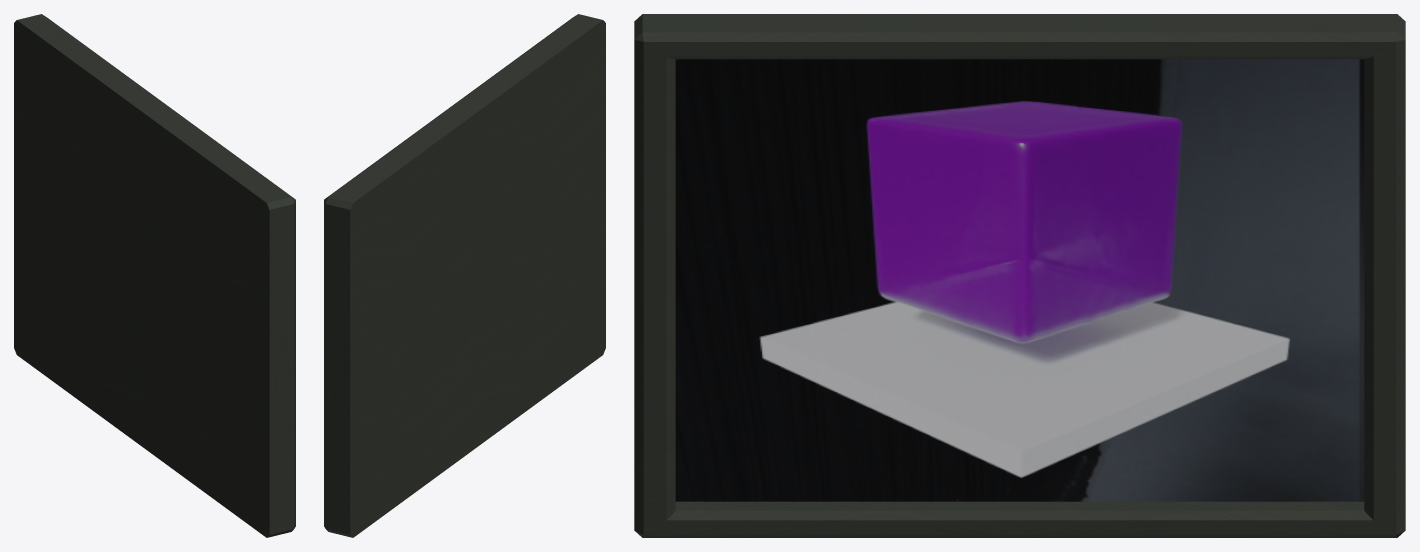
The model's file is Poster2.fbx.
The picture shows the model from 3 angles, left to right: view 1: azimuth 30°, elevation 25°; view 2: azimuth 150°, elevation 25°; view 3: azimuth 270°, elevation 25°; orthographic projection. The views are drawn at different scales.
Visible parts, largest first — view 1: Poster1Baked; view 2: Poster1Baked; view 3: Poster1Baked.
Boxes of the visible parts, x1,y1,x2,y2 form: Poster1Baked: (14, 14, 295, 537); Poster1Baked: (324, 14, 605, 537); Poster1Baked: (634, 14, 1405, 537).
Bounding box in the file's own units: 14.38 × 156 × 215.
